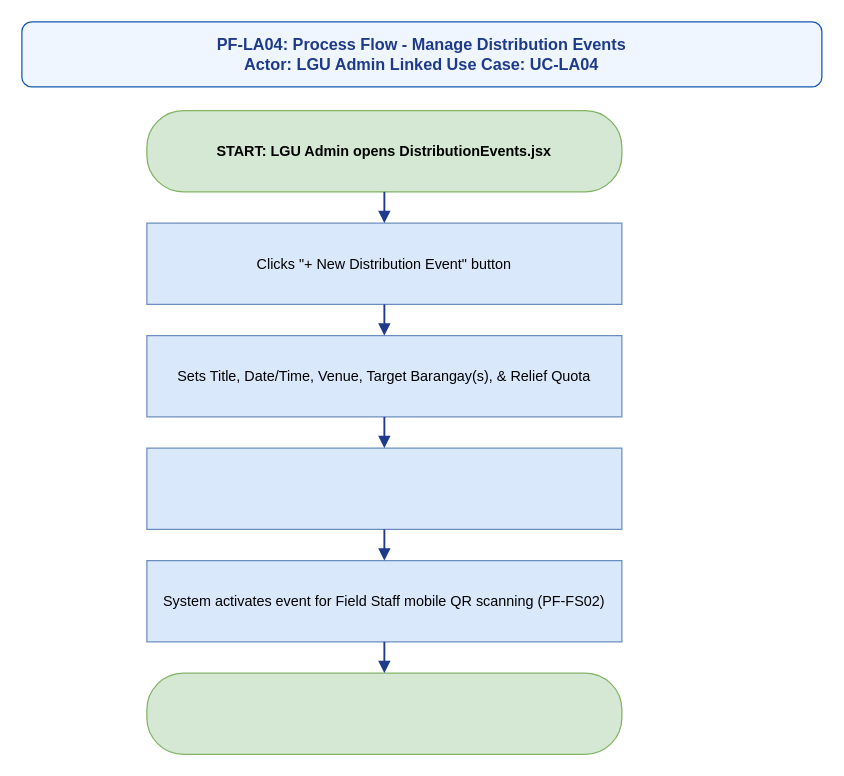
Image size: 844x776. Some labels were removed from this diagram. The centre of each missing label's shape, as x and y in pixels:
"END: Distribution event active; citizen claims tracked in real-time" belongs at point (384, 713).
"Submits via POST /api/distributions/events; assigns Field Staff teams" belongs at point (384, 488).
